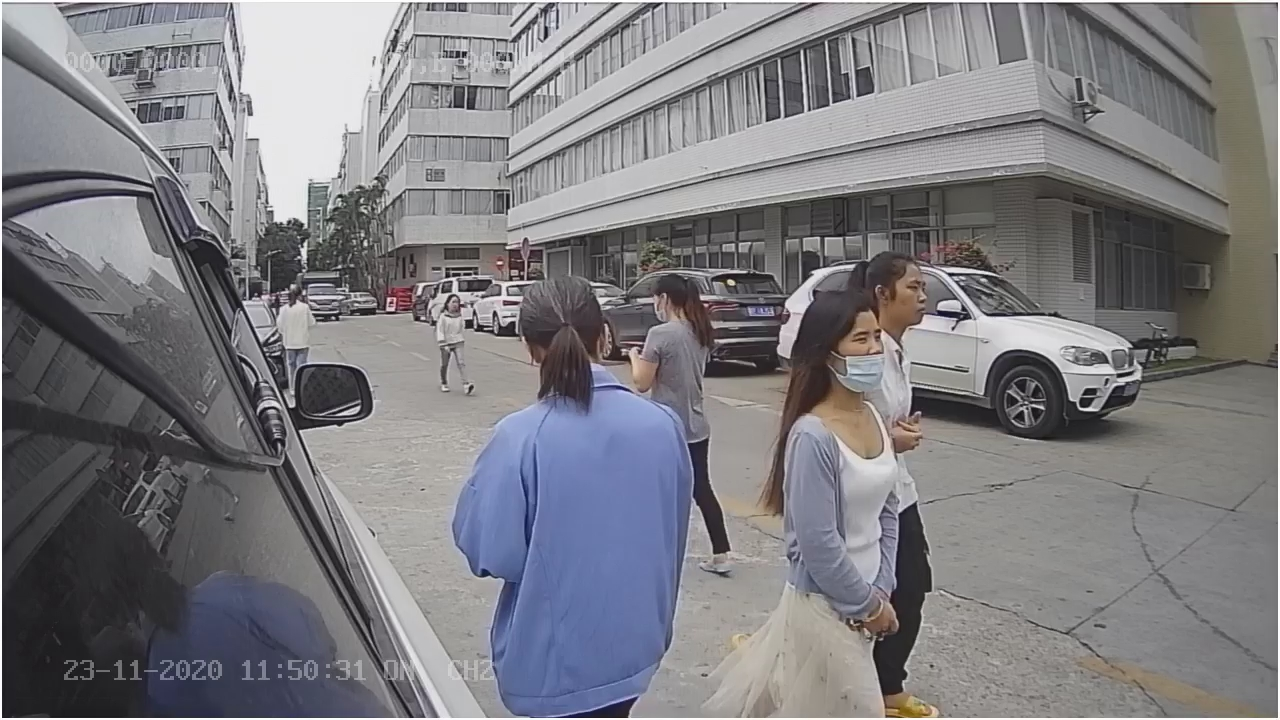person: (453, 280, 696, 609)
